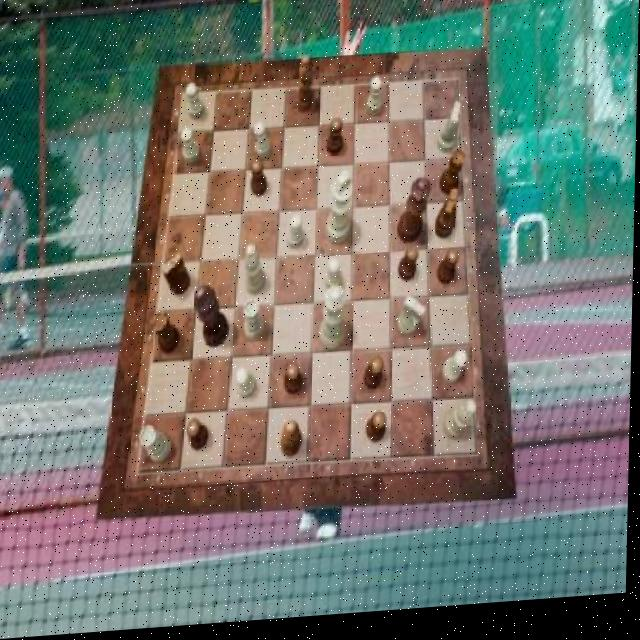bishop: (296, 59, 315, 117), (282, 424, 306, 462)
black-bishop: (195, 286, 232, 352)
black-king: (163, 255, 192, 299), (435, 196, 459, 246)
black-knight: (439, 254, 462, 292), (189, 421, 212, 455), (327, 123, 345, 162), (367, 362, 387, 397), (401, 252, 421, 287), (285, 367, 305, 400), (369, 417, 389, 449), (252, 163, 268, 201)
black-pawn: (398, 184, 432, 251)
black-queen: (154, 312, 182, 356), (442, 156, 468, 203)
black-rook: (444, 407, 478, 447), (245, 247, 269, 299)
white-bishop: (328, 174, 356, 250)
white-king: (438, 108, 463, 161), (400, 302, 428, 344)
white-knight: (445, 357, 470, 392), (181, 130, 202, 167), (237, 371, 259, 405), (186, 85, 205, 124), (254, 126, 272, 165), (367, 84, 384, 123), (289, 217, 307, 253), (327, 263, 345, 298)
white-pawn: (321, 290, 349, 355)
white-queen: (142, 426, 174, 466), (244, 302, 268, 345)
